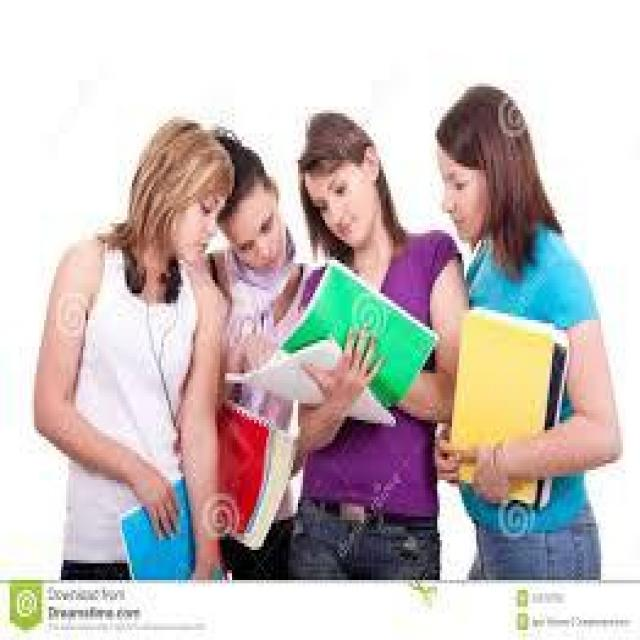person: (413, 70, 618, 597), (262, 60, 459, 553), (51, 73, 242, 557), (183, 96, 310, 566)
